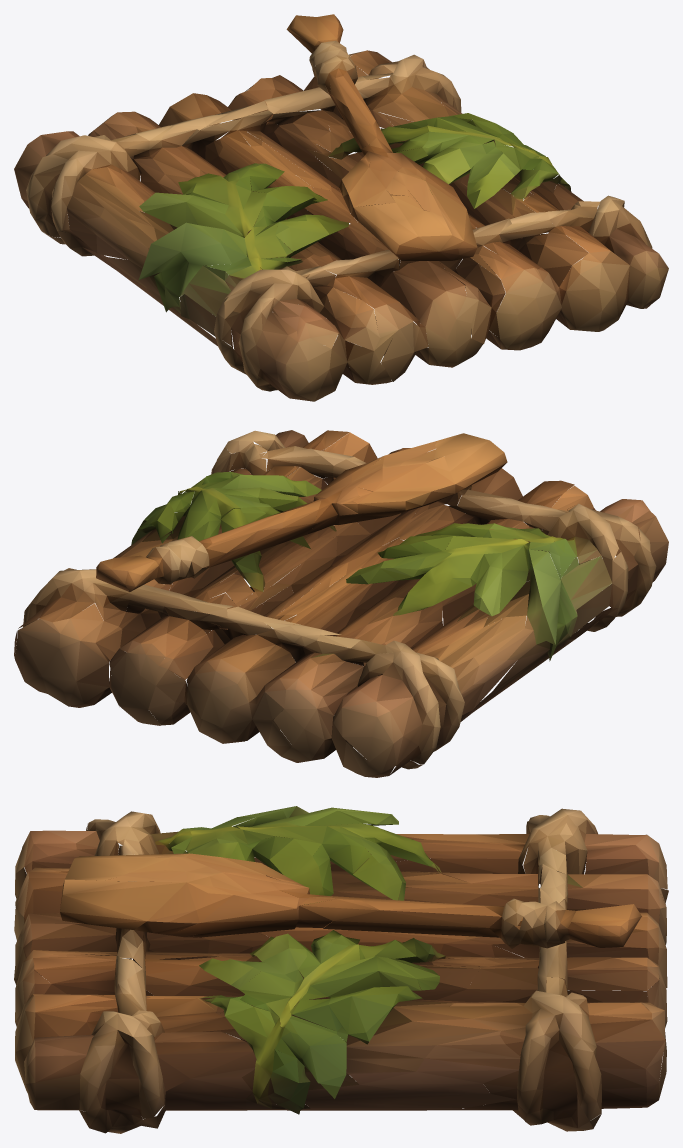
File: building-smallRaft.glb
The picture shows the model from 3 angles, top to bottom: view 1: azimuth 30°, elevation 25°; view 2: azimuth 150°, elevation 25°; view 3: azimuth 270°, elevation 25°; orthographic projection. The views are drawn at different scales.
Visible parts, largest first — view 1: 0_smallRaft; view 2: 0_smallRaft; view 3: 0_smallRaft.
Part boxes in pixels (x1,y1,x2,y2): 0_smallRaft: [14, 14, 668, 401]; 0_smallRaft: [14, 430, 668, 777]; 0_smallRaft: [14, 806, 668, 1133].
Bounding box in the file's own units: 1.92 × 0.6998 × 2.24.
